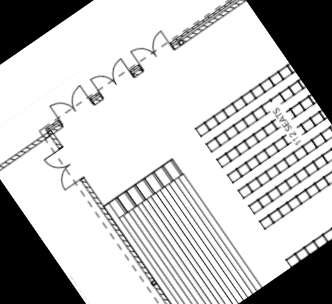double door: (39, 143, 86, 194), (87, 55, 135, 98), (47, 83, 93, 126), (129, 28, 175, 69)
wall: (77, 173, 196, 304), (168, 0, 247, 53), (0, 120, 66, 175), (40, 121, 66, 152)
